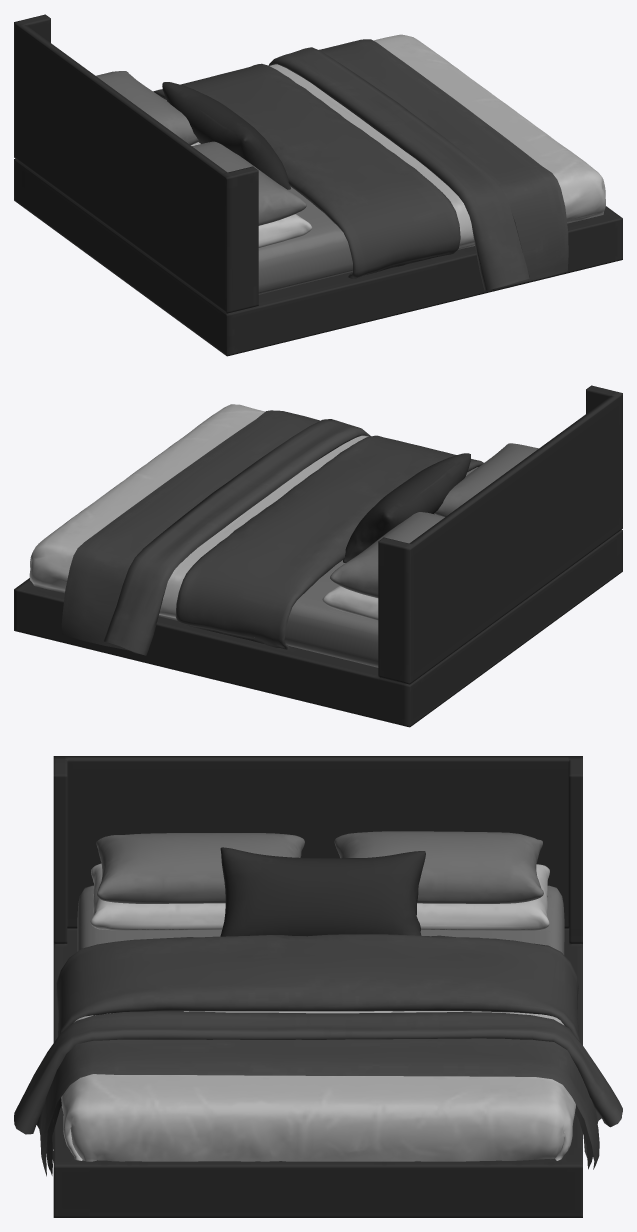
The model's file is bed_dark.glb.
3 views of the same model, one above another, from view 1: azimuth 30°, elevation 25°; view 2: azimuth 150°, elevation 25°; view 3: azimuth 270°, elevation 25° (orthographic). The views are drawn at different scales.
Visible parts, largest first — view 1: Bed_LP_Default_0; view 2: Bed_LP_Default_0; view 3: Bed_LP_Default_0.
Boxes of the visible parts, bbox=[...] form: Bed_LP_Default_0: bbox=[14, 14, 622, 356]; Bed_LP_Default_0: bbox=[14, 385, 622, 727]; Bed_LP_Default_0: bbox=[14, 756, 622, 1217].
Bounding box in the file's own units: 1.99 × 0.8582 × 2.14.
1 material, 1 textured.
